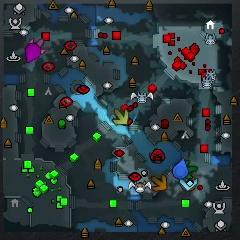p1: (172, 159, 189, 180)
p3: (26, 44, 40, 61)
x1: (29, 39, 47, 55)
x2: (114, 107, 129, 125)
x3: (180, 178, 200, 192)
x4: (185, 158, 198, 178)
x5: (152, 174, 168, 192)
